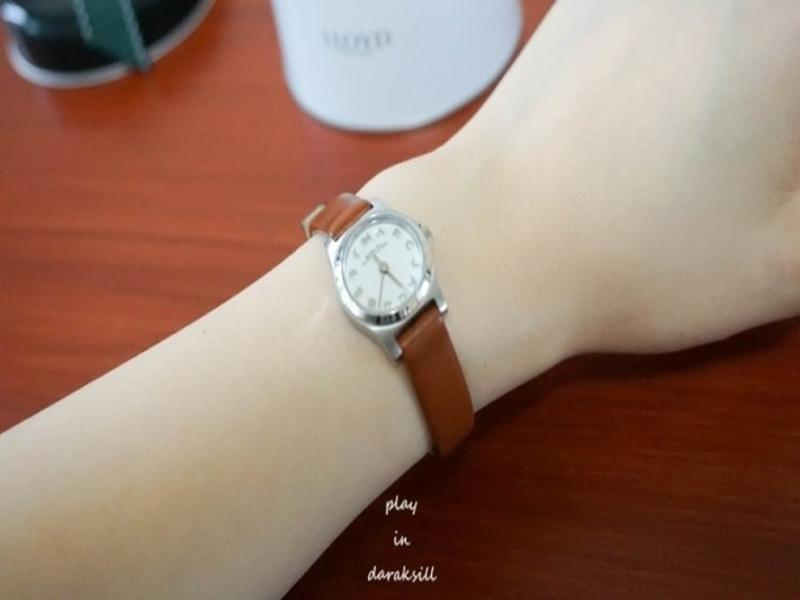watch: (303, 192, 478, 455)
